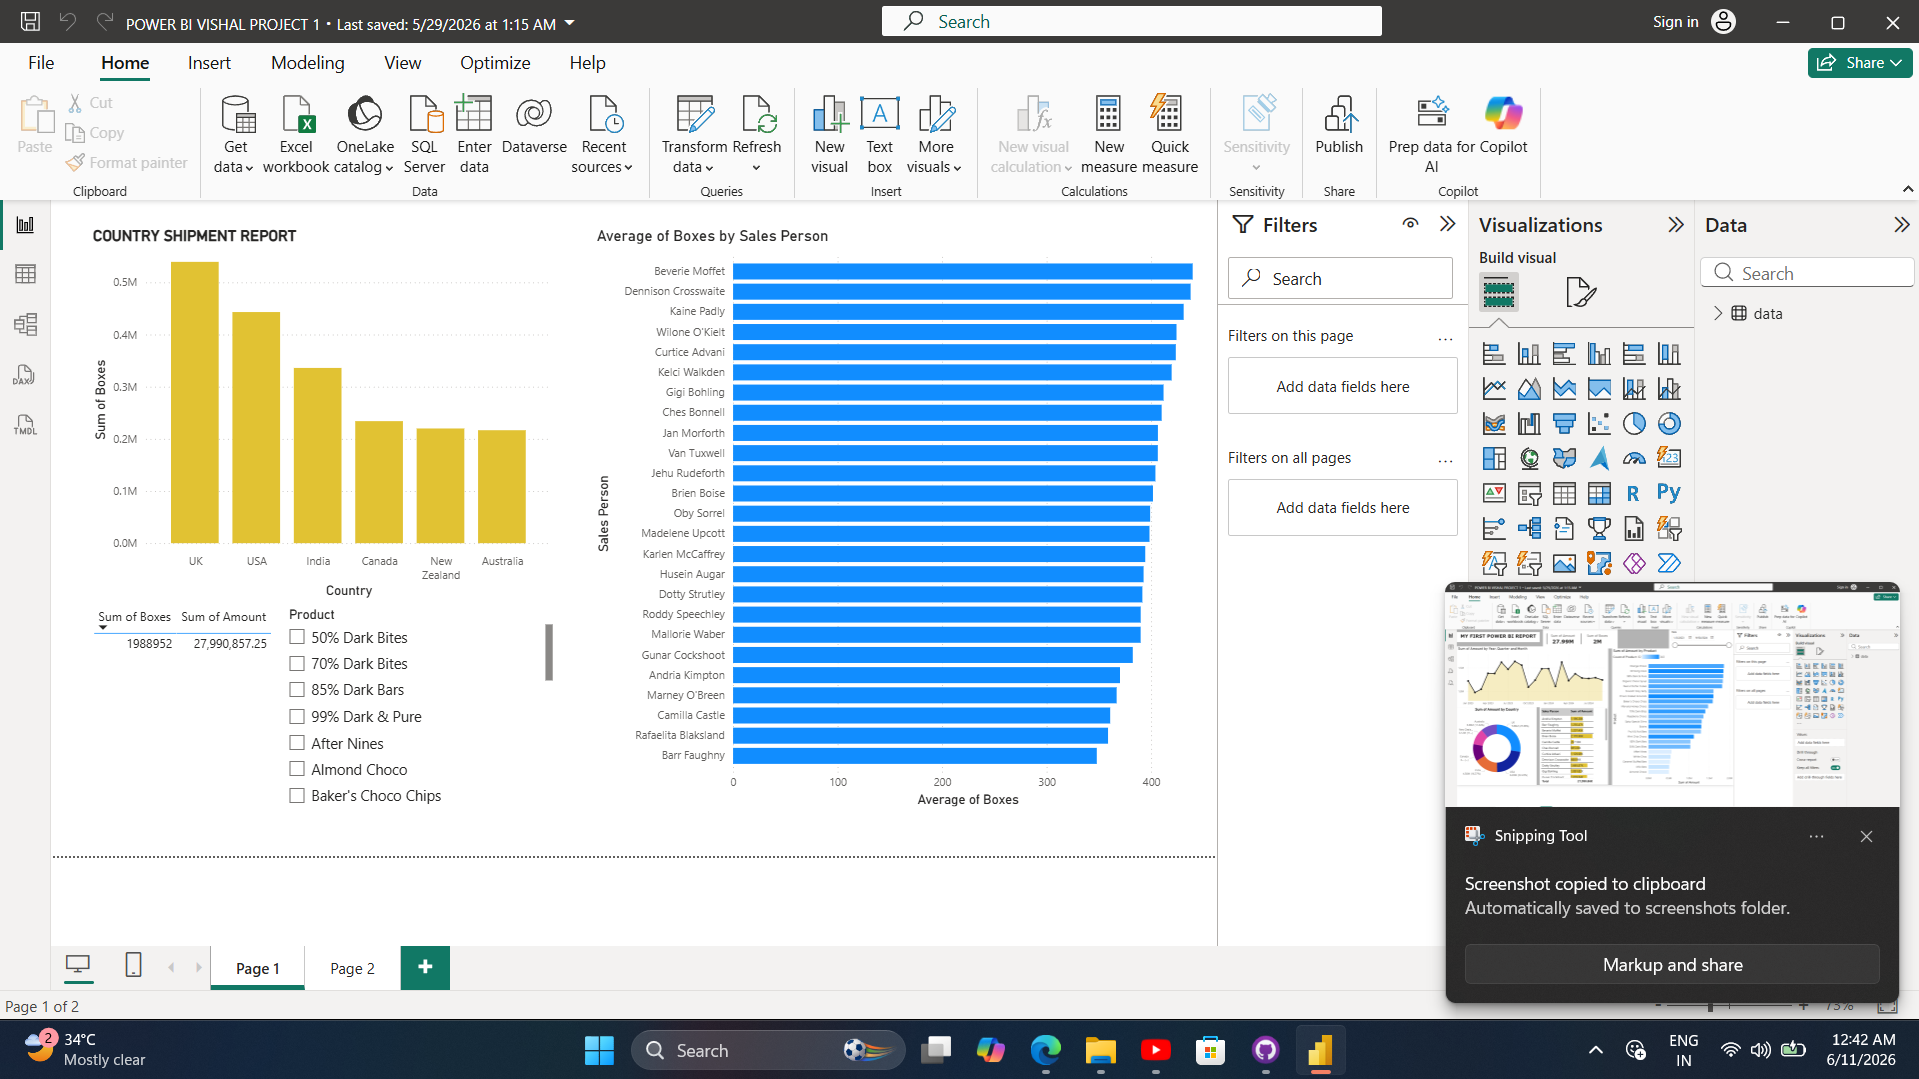

The dashboard page shown, as its layout file describes it:
{"tool":"powerbi","page":{"name":"Page 1","canvas":[1280,720],"ordinal":0},"visuals":[{"type":"columnChart","title":"COUNTRY SHIPMENT REPORT","fields":{"Category":["data.Country"],"Y":["Sum(data.Boxes)"]},"box":[41.5,28.5,513.8,412.9],"z":0},{"type":"barChart","fields":{"Category":["data.Sales Person"],"Y":["Avg(data.Boxes)"]},"box":[594.2,28.8,686.1,642.2],"z":1000},{"type":"tableEx","fields":{"Values":["Sum(data.Boxes)","Sum(data.Amount)"]},"box":[41.2,441.9,207.2,131.7],"z":2000},{"type":"slicer","fields":{"Values":["data.Product"]},"box":[248.4,441.9,307.4,229.2],"z":3000}]}

Visuals, with their boxes on the page's 1280x720 design canvas (x1, y1, x2, y2). These are canvas units, not pixel positions in the 1919x1079 screenshot, which may show the page scaled, cropped or inside an application window:
"COUNTRY SHIPMENT REPORT" columnChart: <bbox>42, 28, 555, 441</bbox>
barChart - data.Sales Person x Avg(data.Boxes): <bbox>594, 29, 1280, 671</bbox>
tableEx - Sum(data.Boxes) x Sum(data.Amount): <bbox>41, 442, 248, 574</bbox>
slicer - data.Product: <bbox>248, 442, 556, 671</bbox>
